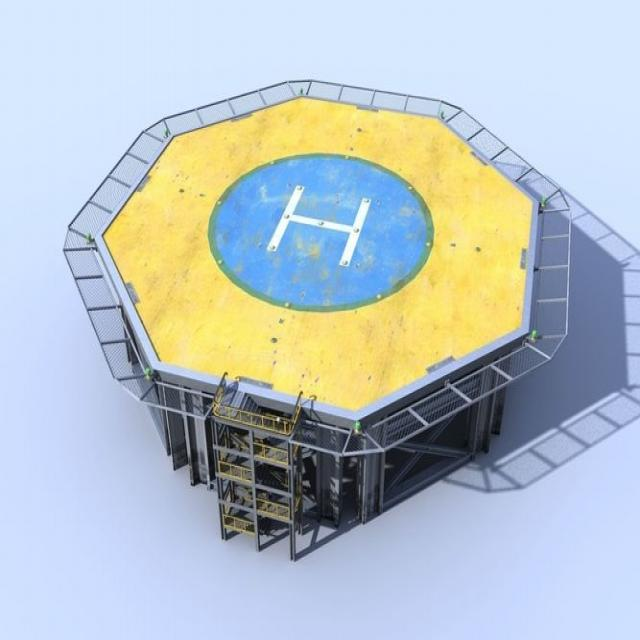helipad: (202, 144, 436, 318)
